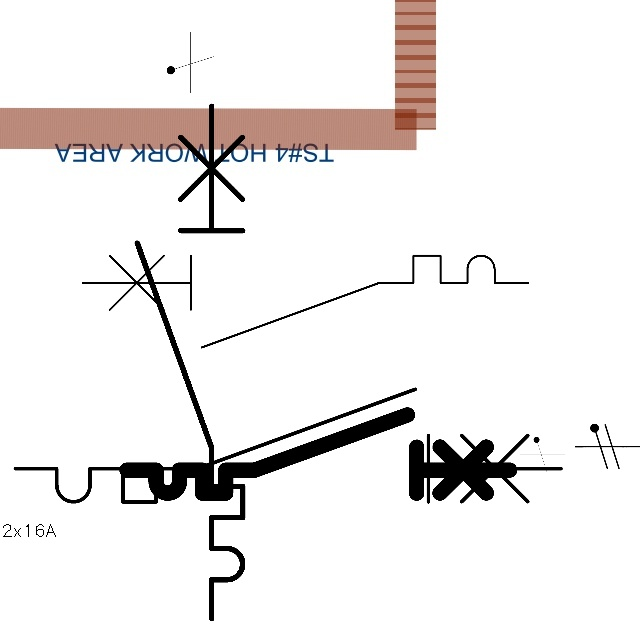interruptor_termomagnetico: (1, 375, 575, 516), (124, 92, 256, 631), (71, 244, 540, 358), (117, 405, 520, 503)
